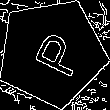P_NW: (21, 25, 82, 80)
